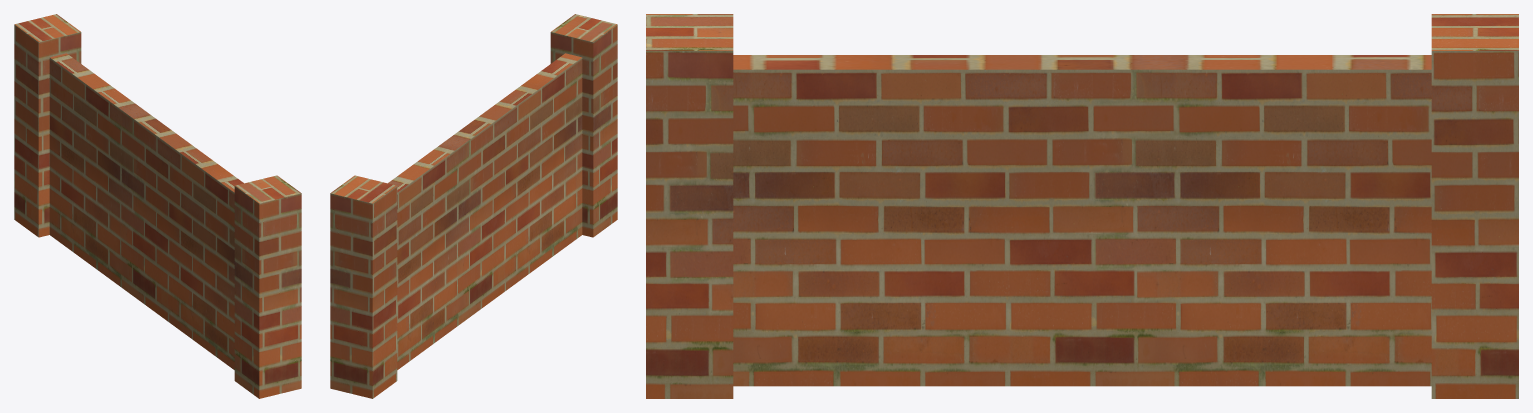
The model's file is wall.glb.
The picture shows the model from 3 angles, left to right: view 1: azimuth 30°, elevation 25°; view 2: azimuth 150°, elevation 25°; view 3: azimuth 270°, elevation 25°; orthographic projection. The views are drawn at different scales.
Parts seen in each view (by area): view 1: Cube; view 2: Cube; view 3: Cube.
Boxes of the visible parts, left/top/right/bottom form: Cube: left=14, top=14, right=301, bottom=398; Cube: left=330, top=14, right=617, bottom=398; Cube: left=646, top=14, right=1518, bottom=398.
Bounding box in the file's own units: 3.97 × 17.48 × 39.72.
Materials: 1 (1 with a texture image).
